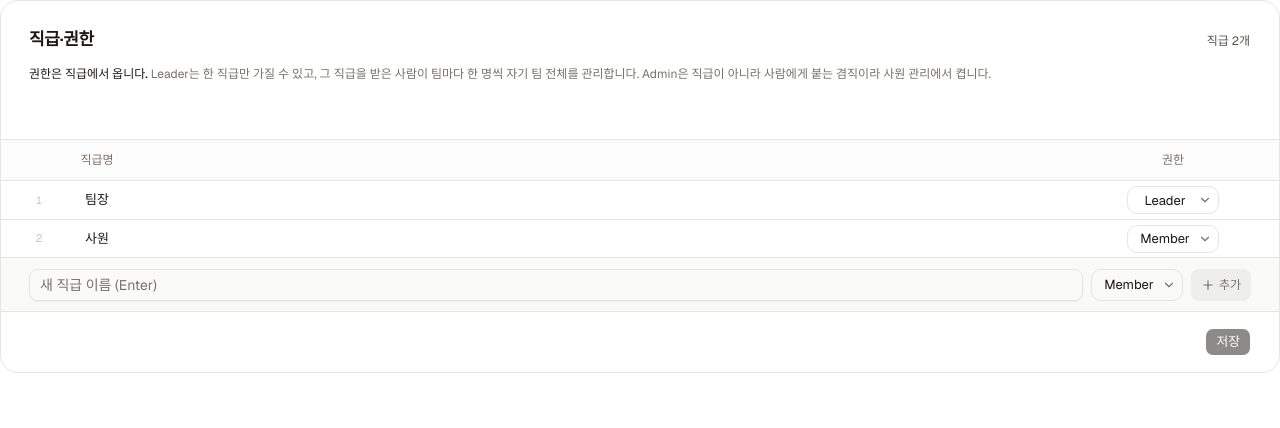
Scenario: 저장 실패 문구 › 전송이 거부돼도 화면이 죽지 않고 그 자리에 남는다
The width and height of the screenshot is (1280, 428).
In the field with placeholder "새 직급 이름 (Enter)": [556, 284] box [29,268,1083,300], type "대리"
Then press Enter
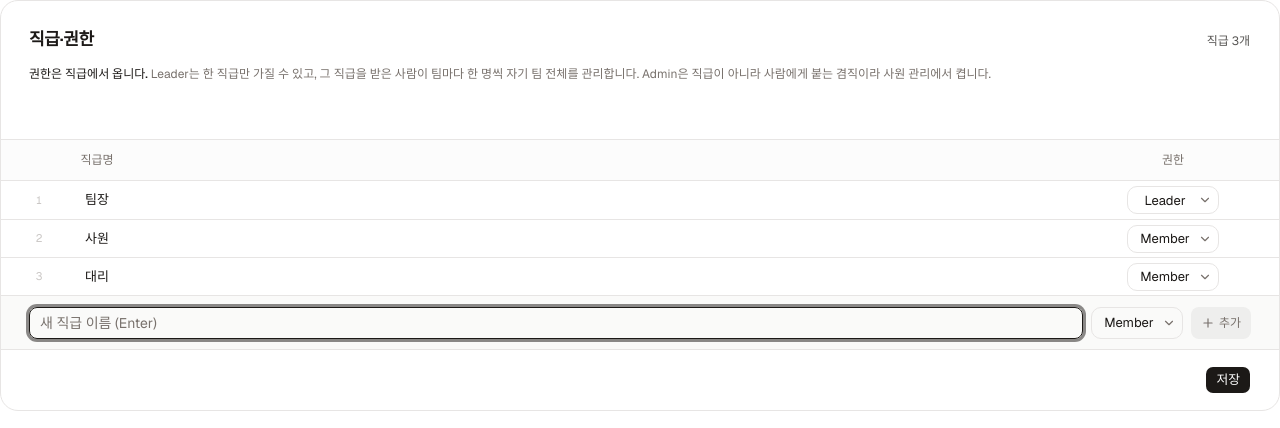
Click the button "저장": [1228, 380] box [1206,366,1251,394]
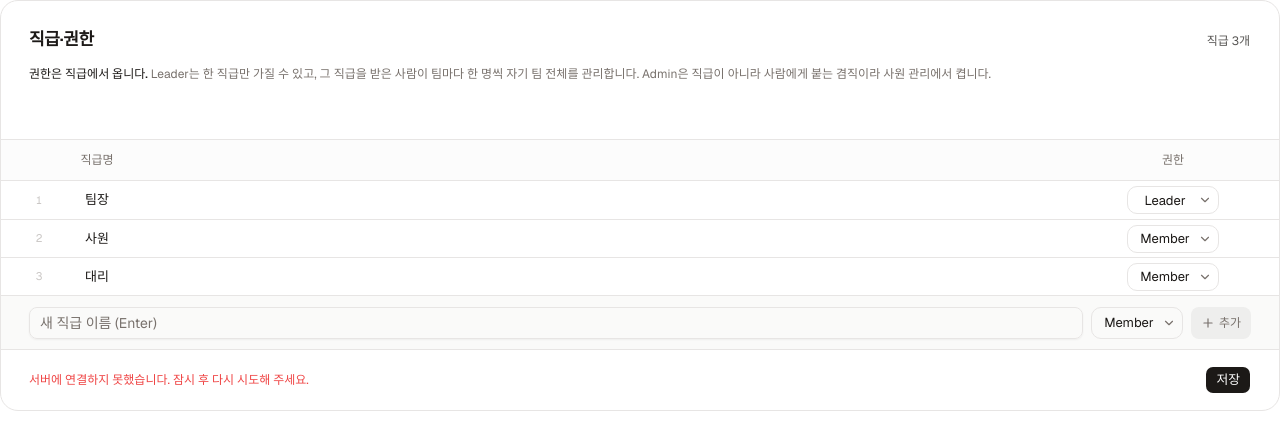
Check: the button "대리" is shown, box [57,266,137,286]
Check: the text "서버에 연결하지 못했습니다. 잠시 후 다시 시도해 주세요." is shown, box [29,372,309,388]
